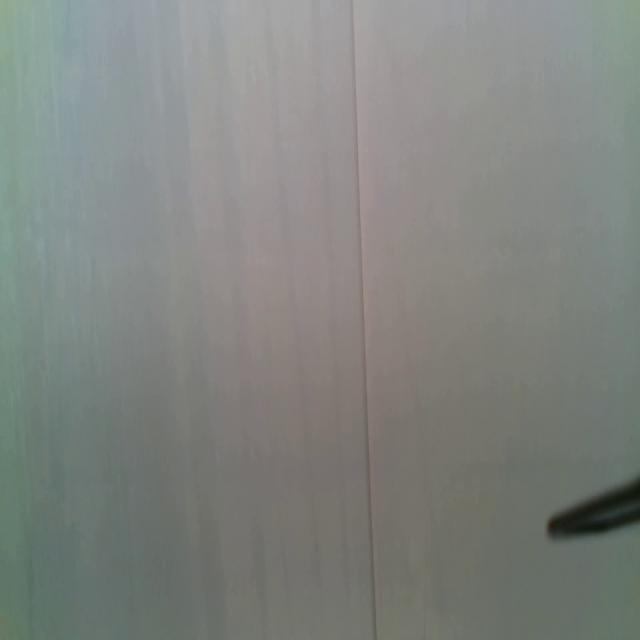crease: (350, 0, 378, 638)
